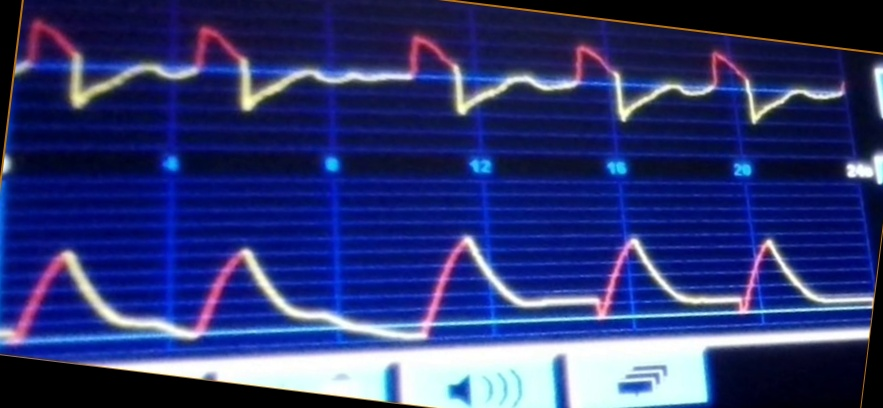Ineffective_effort Flow: (21, 14, 841, 133)
Ineffective_effort Volume: (1, 224, 864, 343)
